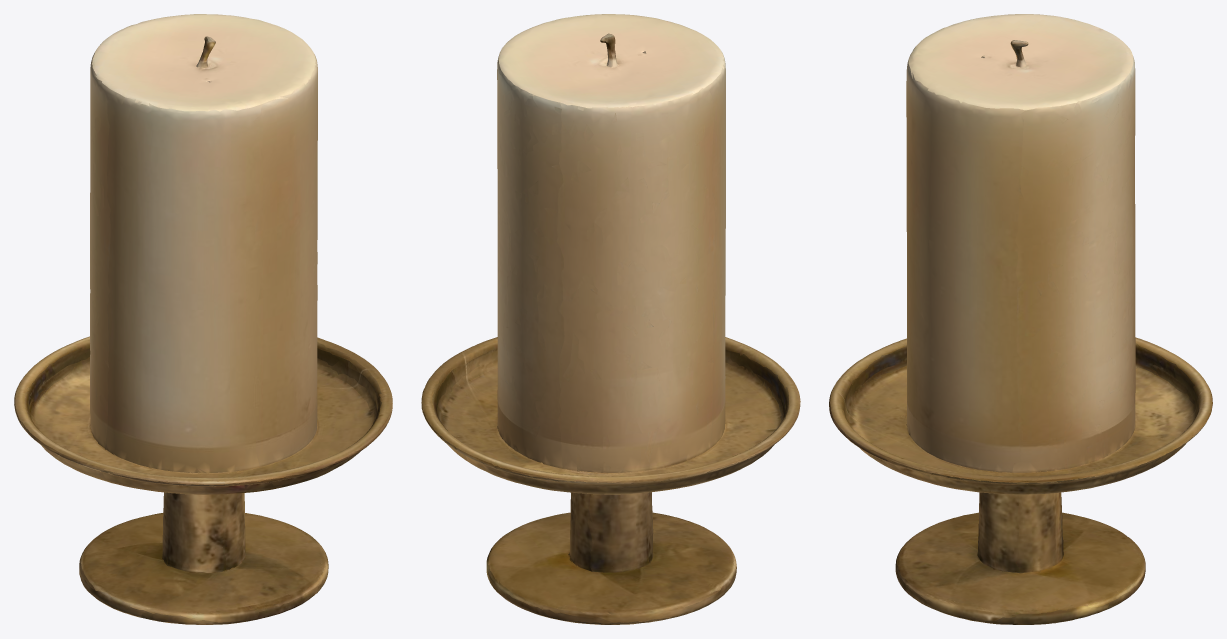
File: candle.glb
3 views of the same model, side by side, from view 1: azimuth 30°, elevation 25°; view 2: azimuth 150°, elevation 25°; view 3: azimuth 270°, elevation 25° (orthographic).
Visible parts, largest first — view 1: geometry_0; view 2: geometry_0; view 3: geometry_0.
Boxes of the visible parts, x1,y1,x2,y2 form: geometry_0: [14, 14, 392, 624]; geometry_0: [421, 14, 800, 624]; geometry_0: [829, 14, 1212, 624].
Bounding box in the file's own units: 0.0963 × 0.15 × 0.0974.
Materials: 1 (1 with a texture image).
